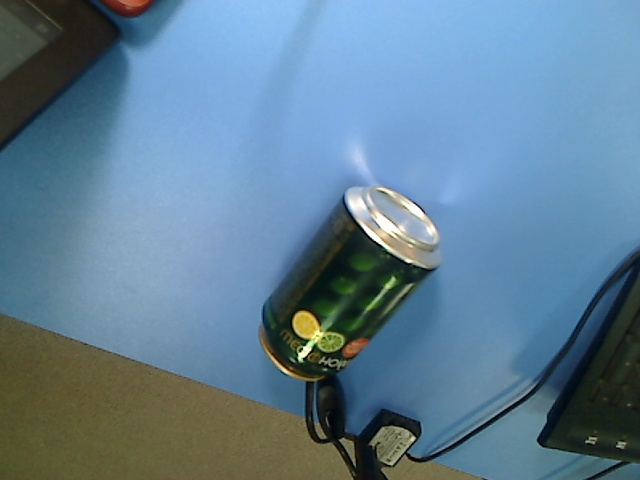can: (257, 184, 445, 383)
